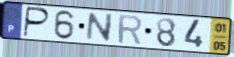4: (183, 18, 208, 52)
6: (52, 9, 77, 41)
8: (155, 17, 178, 48)
N: (84, 12, 115, 43)
P: (22, 5, 52, 39)
R: (117, 13, 144, 46)
